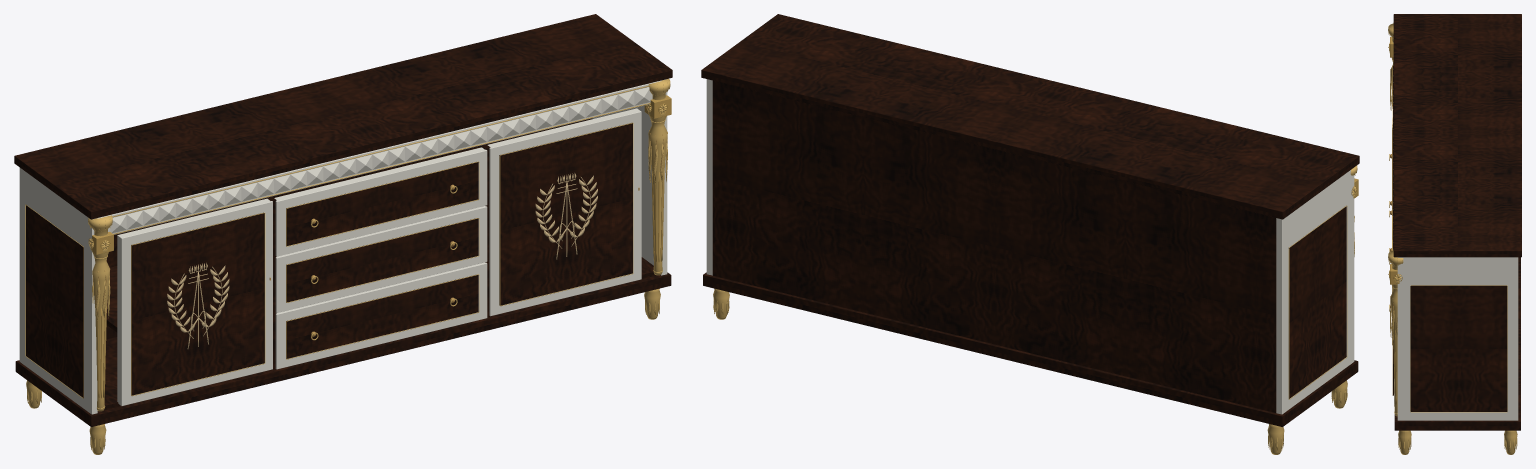
The picture shows the model from 3 angles, left to right: view 1: azimuth 30°, elevation 25°; view 2: azimuth 150°, elevation 25°; view 3: azimuth 270°, elevation 25°; orthographic projection. The views are drawn at different scales.
Visible parts, largest first — view 1: Belgravia two-door three-drawer sideboard | dining-20 web ba; view 2: Belgravia two-door three-drawer sideboard | dining-20 web ba; view 3: Belgravia two-door three-drawer sideboard | dining-20 web ba.
Boxes of the visible parts, <box> form: Belgravia two-door three-drawer sideboard | dining-20 web ba: <box>14,14,672,454</box>; Belgravia two-door three-drawer sideboard | dining-20 web ba: <box>701,14,1359,454</box>; Belgravia two-door three-drawer sideboard | dining-20 web ba: <box>1388,14,1521,454</box>.
Size of the model in its own units: 2.22 by 0.91 by 0.53.
7 materials, 2 textured.
